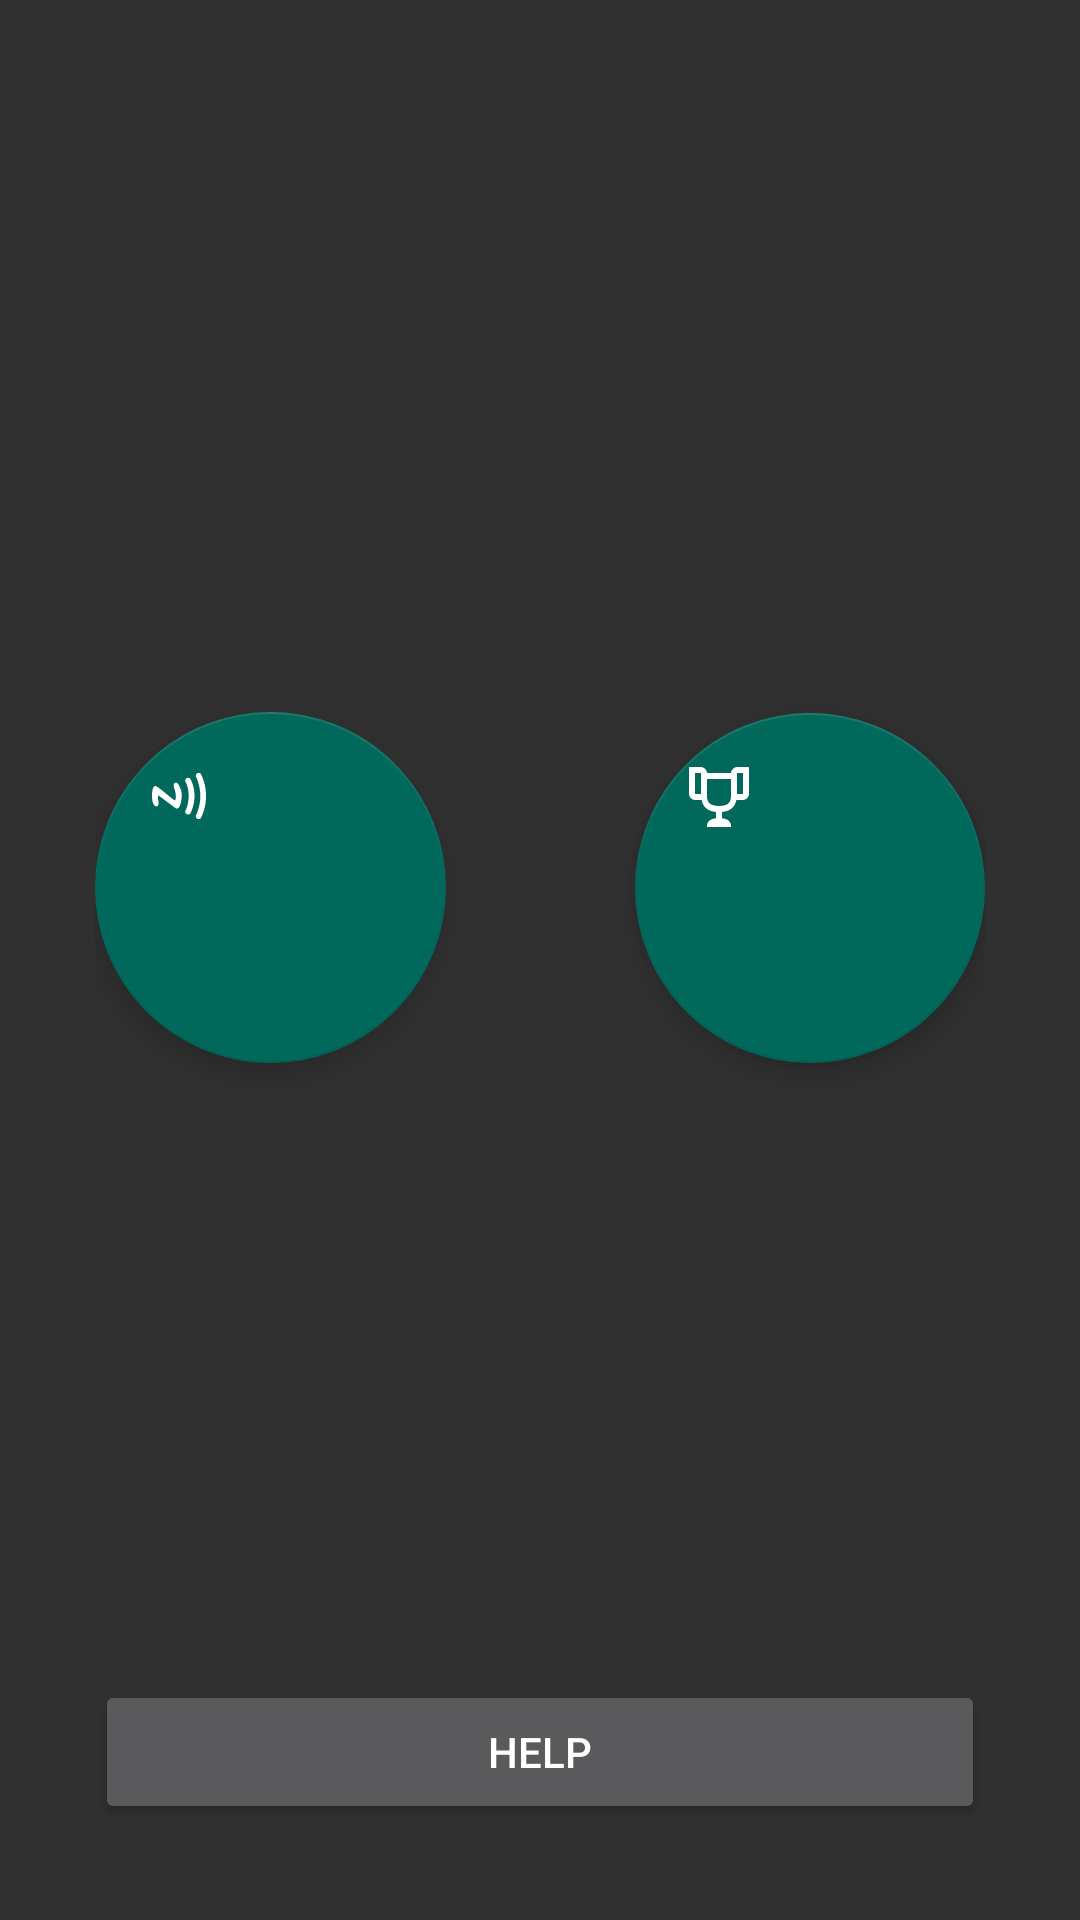

Icons on this 1080px×1920px Android screen, each with its box as box(x1, y1, x2, y2):
nfc main: box(95, 712, 446, 1063)
rank main: box(635, 713, 985, 1063)
